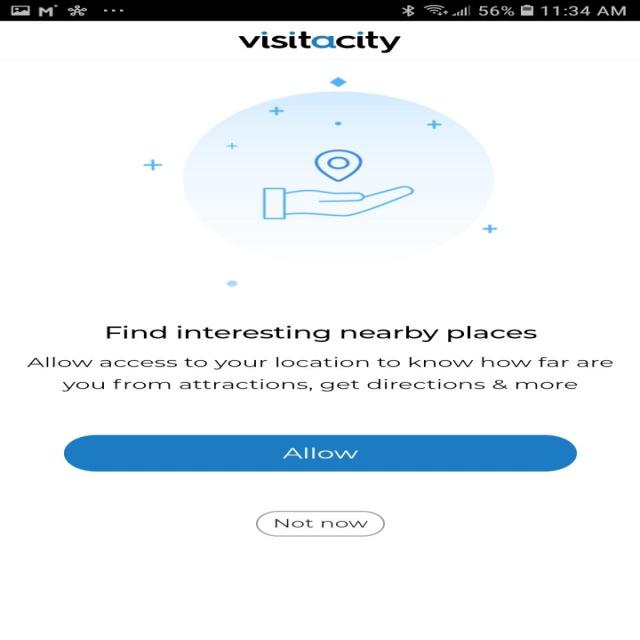Image: (141, 76, 497, 287), (237, 30, 402, 53)
Text: (26, 356, 612, 392), (106, 325, 537, 343)
TextButton: (63, 434, 577, 471), (255, 510, 385, 537)
